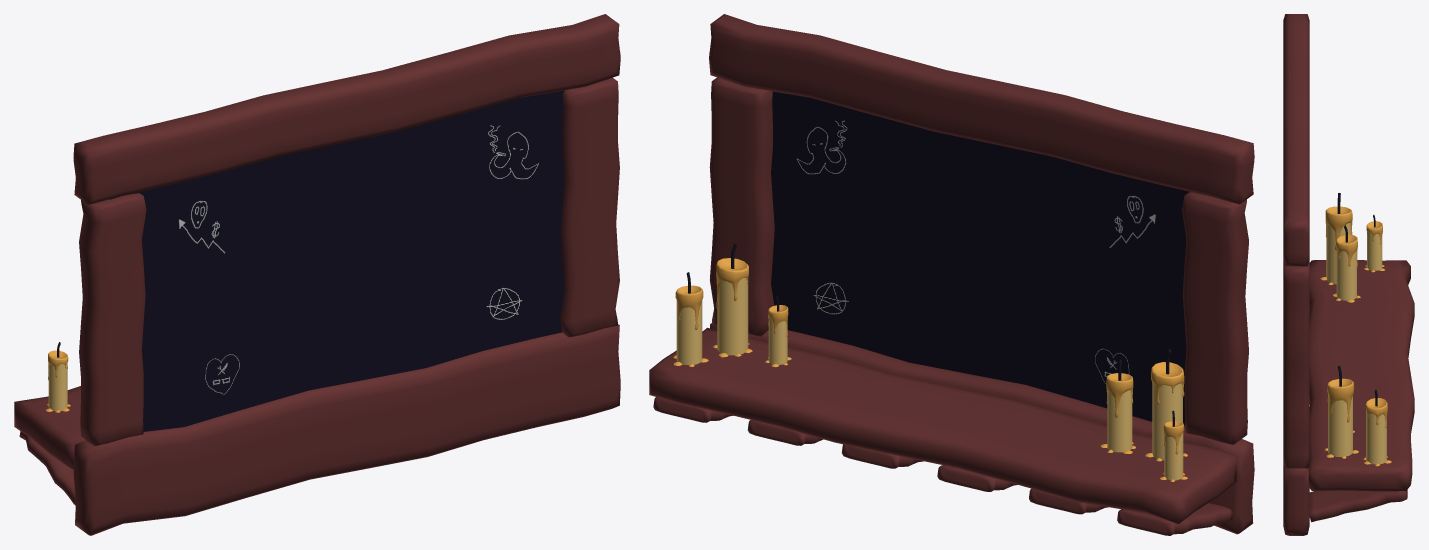
Rendered from Pizarra.fbx.
The picture shows the model from 3 angles, left to right: view 1: azimuth 30°, elevation 25°; view 2: azimuth 150°, elevation 25°; view 3: azimuth 270°, elevation 25°; orthographic projection. The views are drawn at different scales.
Parts seen in each view (by area): view 1: Pizzarra, CandleBllackBoard; view 2: Pizzarra, CandleBllackBoard; view 3: Pizzarra, CandleBllackBoard.
Part boxes in pixels (x1=…): Pizzarra: x1=14, y1=14, x2=620, y2=535; CandleBllackBoard: x1=46, y1=342, x2=70, y2=412; Pizzarra: x1=649, y1=14, x2=1254, y2=535; CandleBllackBoard: x1=673, y1=243, x2=1187, y2=481; Pizzarra: x1=1283, y1=14, x2=1414, y2=535; CandleBllackBoard: x1=1320, y1=193, x2=1391, y2=466.
Size of the model in its own units: 596 by 416 by 155.
